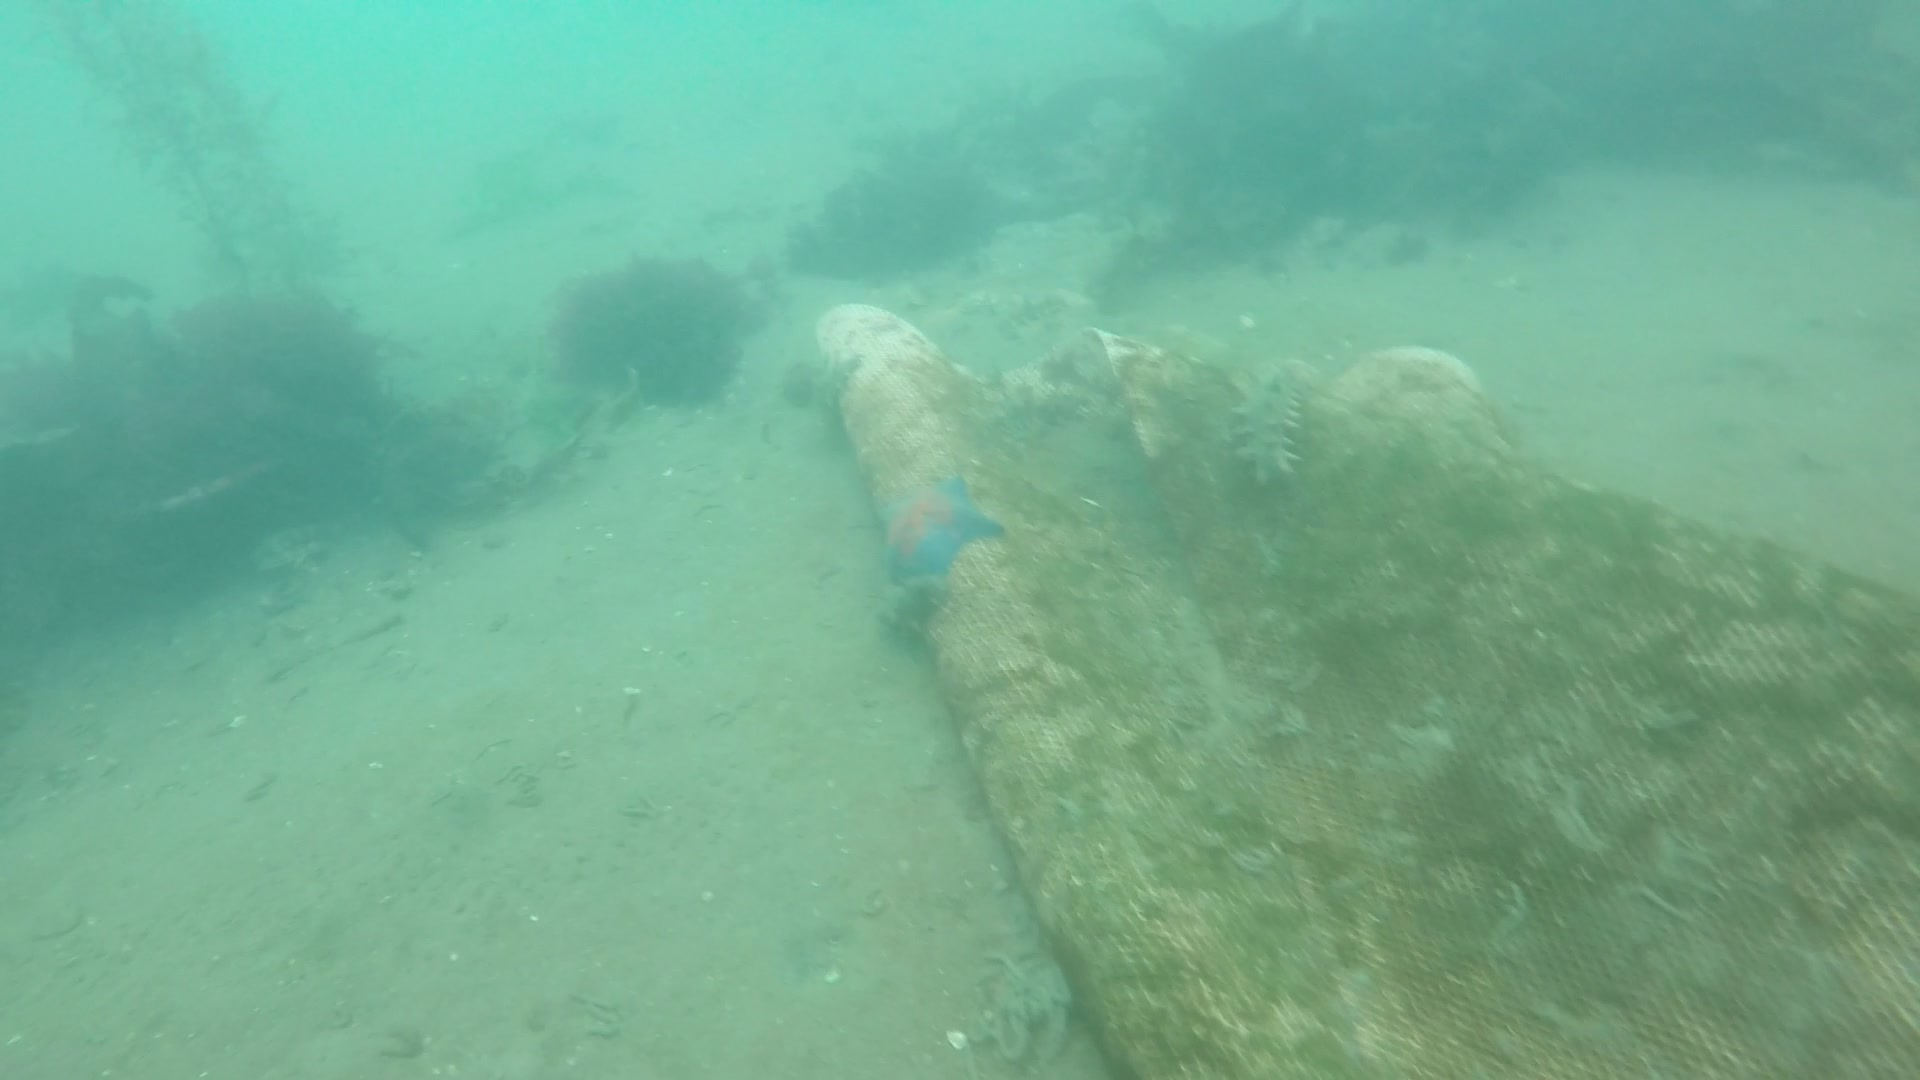holothurian: (1236, 357, 1315, 479)
starfish: (865, 477, 1005, 589)
